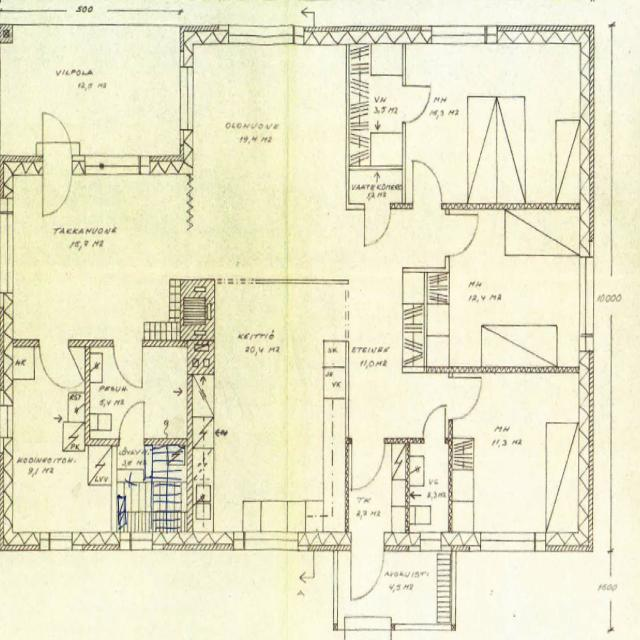door: (351, 532, 384, 599), (351, 437, 385, 493), (43, 112, 72, 174), (43, 156, 72, 218), (113, 340, 142, 390), (39, 340, 68, 390), (448, 378, 481, 420), (445, 214, 478, 256), (413, 162, 441, 210), (364, 203, 390, 248), (402, 86, 431, 122), (119, 403, 143, 445), (423, 405, 445, 443)
